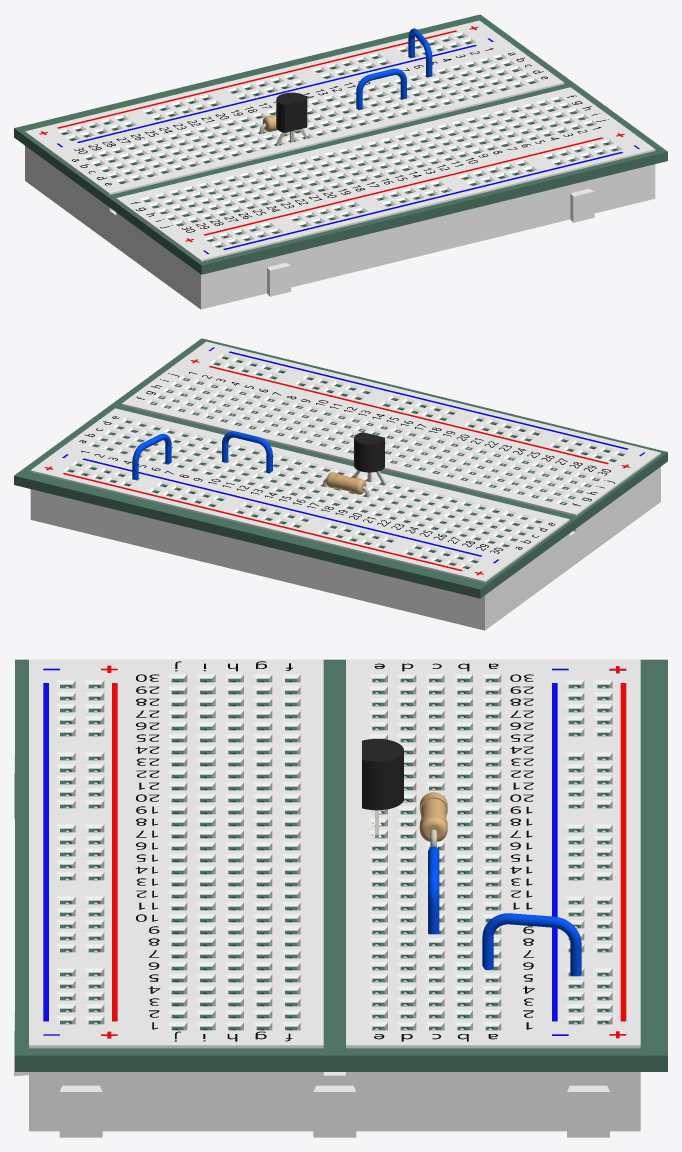
3 views of the same model, one above another, from view 1: azimuth 30°, elevation 25°; view 2: azimuth 150°, elevation 25°; view 3: azimuth 270°, elevation 25° (orthographic). The views are drawn at different scales.
Parts seen in each view (by area): view 1: HalfBreadboard001, breadboard_PCB, TO-92_Inline_Wide, Jumper-Wire_8mm_Blue, Jumper-Wire_8mm_Blue002; view 2: HalfBreadboard001, breadboard_PCB, TO-92_Inline_Wide, R_Axial_DIN0207_L63mm_D25mm_P762mm_Horizontal, Jumper-Wire_8mm_Blue, Jumper-Wire_8mm_Blue002; view 3: HalfBreadboard001, breadboard_PCB, TO-92_Inline_Wide, Jumper-Wire_8mm_Blue002, R_Axial_DIN0207_L63mm_D25mm_P762mm_Horizontal, Jumper-Wire_8mm_Blue.
Part boxes in pixels (box(x1,y1,x2,y2)): HalfBreadboard001: box(25, 20, 655, 309); breadboard_PCB: box(14, 14, 667, 274); TO-92_Inline_Wide: box(275, 92, 307, 146); Jumper-Wire_8mm_Blue: box(356, 68, 406, 109); Jumper-Wire_8mm_Blue002: box(408, 28, 432, 77); HalfBreadboard001: box(30, 341, 660, 630); breadboard_PCB: box(14, 338, 667, 598); TO-92_Inline_Wide: box(353, 432, 385, 485); R_Axial_DIN0207_L63mm_D25mm_P762mm_Horizontal: box(323, 472, 369, 497); Jumper-Wire_8mm_Blue: box(222, 431, 272, 473); Jumper-Wire_8mm_Blue002: box(132, 433, 171, 480); HalfBreadboard001: box(14, 659, 640, 1137); breadboard_PCB: box(15, 659, 667, 1071); TO-92_Inline_Wide: box(362, 739, 403, 838); Jumper-Wire_8mm_Blue002: box(482, 913, 581, 976); R_Axial_DIN0207_L63mm_D25mm_P762mm_Horizontal: box(419, 792, 447, 847); Jumper-Wire_8mm_Blue: box(428, 846, 439, 934).
Bounding box in the file's own units: 8.38 × 1.56 × 5.85.
